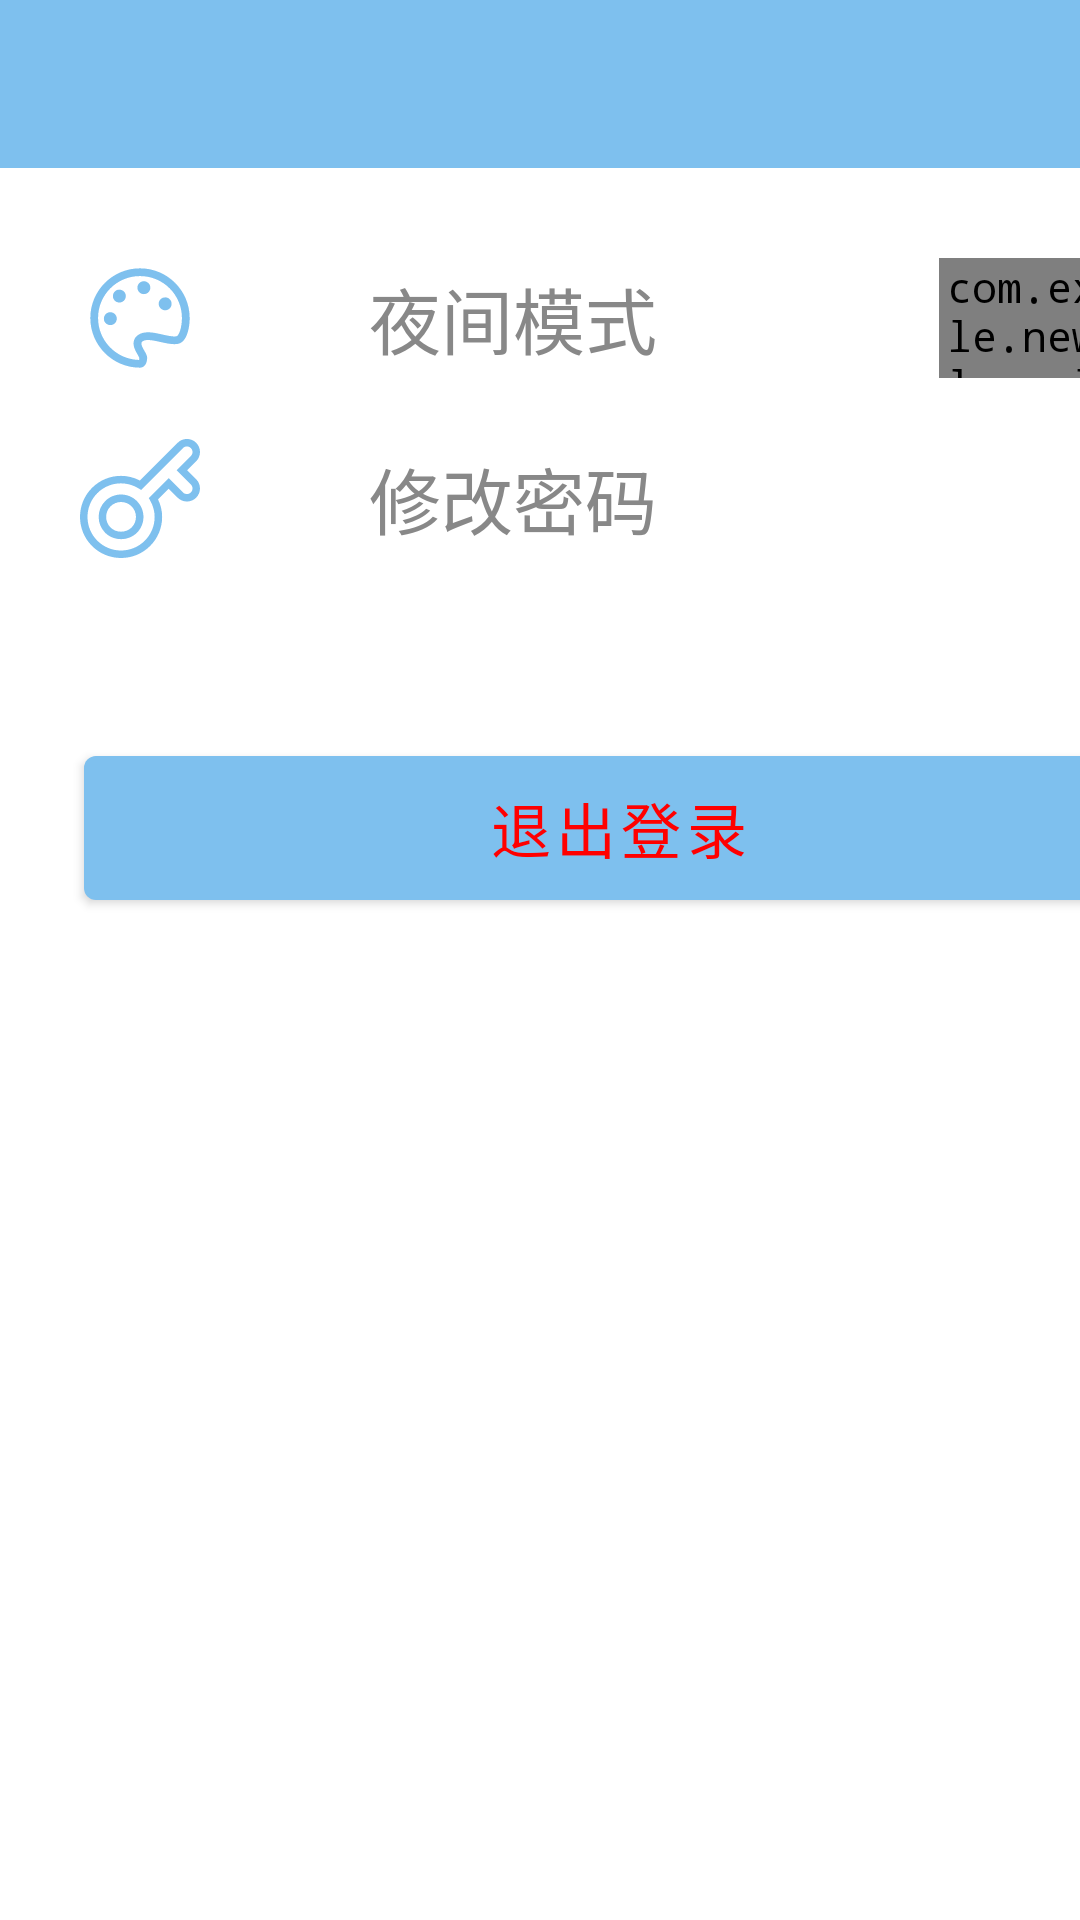

Screen size 1080×1920. Icon name, then its center in pixels as [x,y]:
setting outlook: [140,318]
setting pwd: [140,498]
